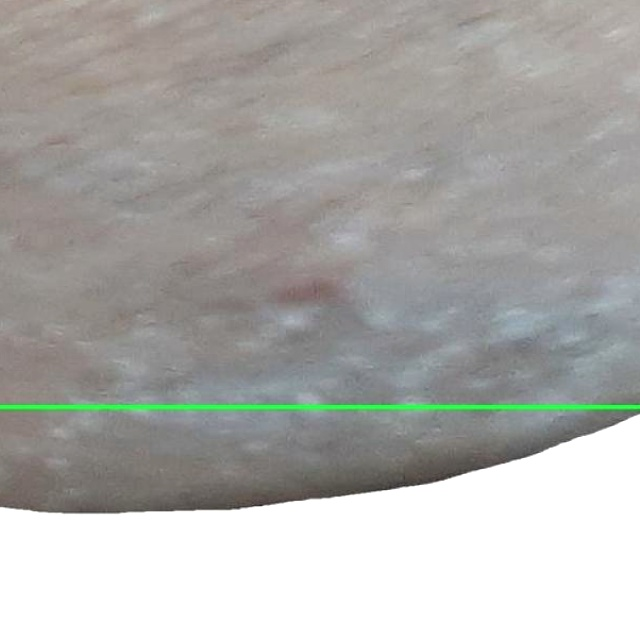Tinea Corporis: (0, 406, 639, 639)
